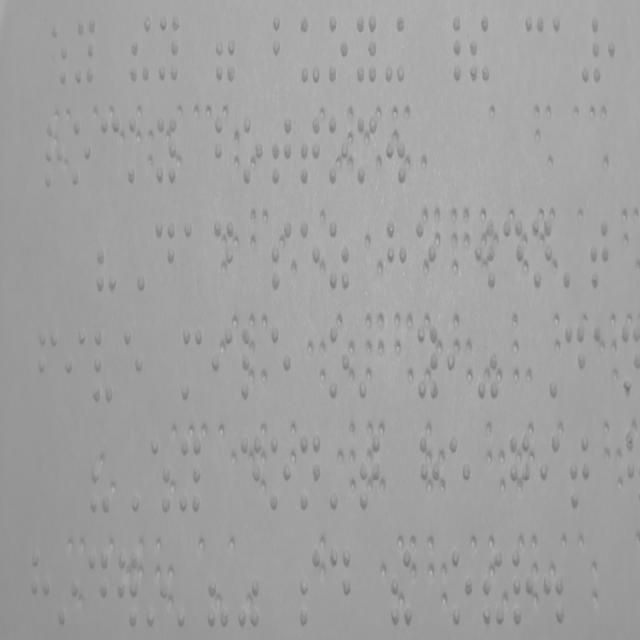braiile: (506, 424, 534, 524), (297, 541, 325, 639), (566, 428, 593, 528), (448, 539, 475, 639), (85, 543, 112, 640), (238, 318, 266, 408), (417, 426, 445, 516), (510, 541, 537, 633), (414, 317, 441, 408), (175, 430, 202, 520), (268, 425, 294, 518), (354, 431, 382, 516), (328, 541, 352, 640), (298, 108, 324, 196), (562, 313, 587, 404), (268, 317, 294, 404), (238, 107, 266, 187), (62, 321, 86, 414), (70, 11, 98, 90), (122, 324, 146, 416), (297, 428, 322, 516), (528, 212, 554, 296), (36, 321, 60, 412), (90, 326, 116, 410), (537, 427, 561, 518), (153, 111, 179, 194), (210, 214, 236, 297), (296, 212, 322, 295), (385, 210, 410, 296), (500, 212, 525, 298), (448, 430, 473, 516), (238, 426, 264, 508), (326, 320, 349, 412), (152, 210, 176, 298), (413, 214, 438, 298), (270, 214, 294, 301), (472, 214, 498, 294), (178, 324, 203, 406), (29, 544, 52, 632), (156, 9, 182, 86), (210, 321, 233, 408), (325, 11, 350, 91), (182, 214, 206, 297), (270, 8, 294, 90), (42, 111, 66, 193), (98, 108, 121, 192), (548, 8, 572, 88), (355, 12, 380, 88), (269, 111, 292, 193), (70, 114, 94, 192), (588, 214, 610, 298), (356, 110, 379, 190), (592, 317, 614, 399), (298, 11, 322, 86), (326, 112, 349, 190), (125, 111, 148, 188), (212, 108, 234, 186), (522, 11, 544, 86)
